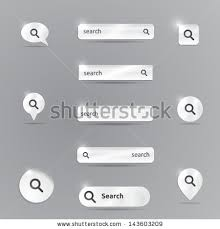searchIcon: (181, 171, 197, 187), (28, 177, 43, 194), (183, 101, 197, 117), (182, 26, 195, 42), (28, 25, 40, 40), (83, 189, 95, 204), (27, 97, 38, 111), (80, 149, 90, 160), (141, 23, 150, 35), (140, 66, 148, 77)
